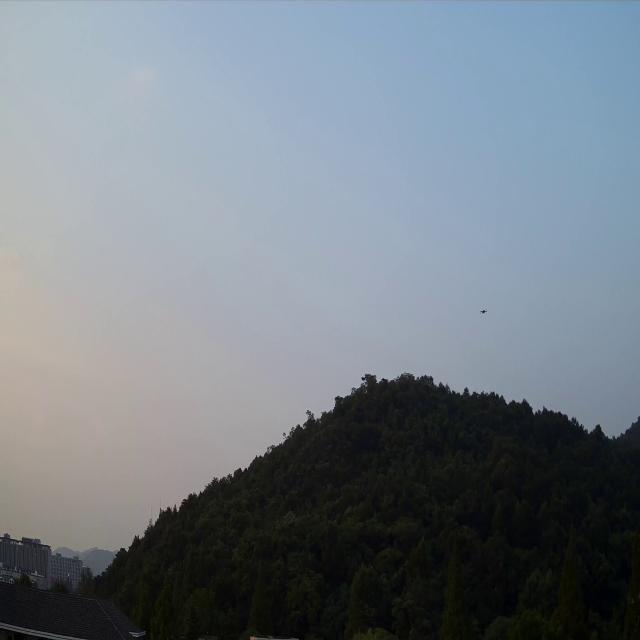UAV: (480, 308, 488, 315)
